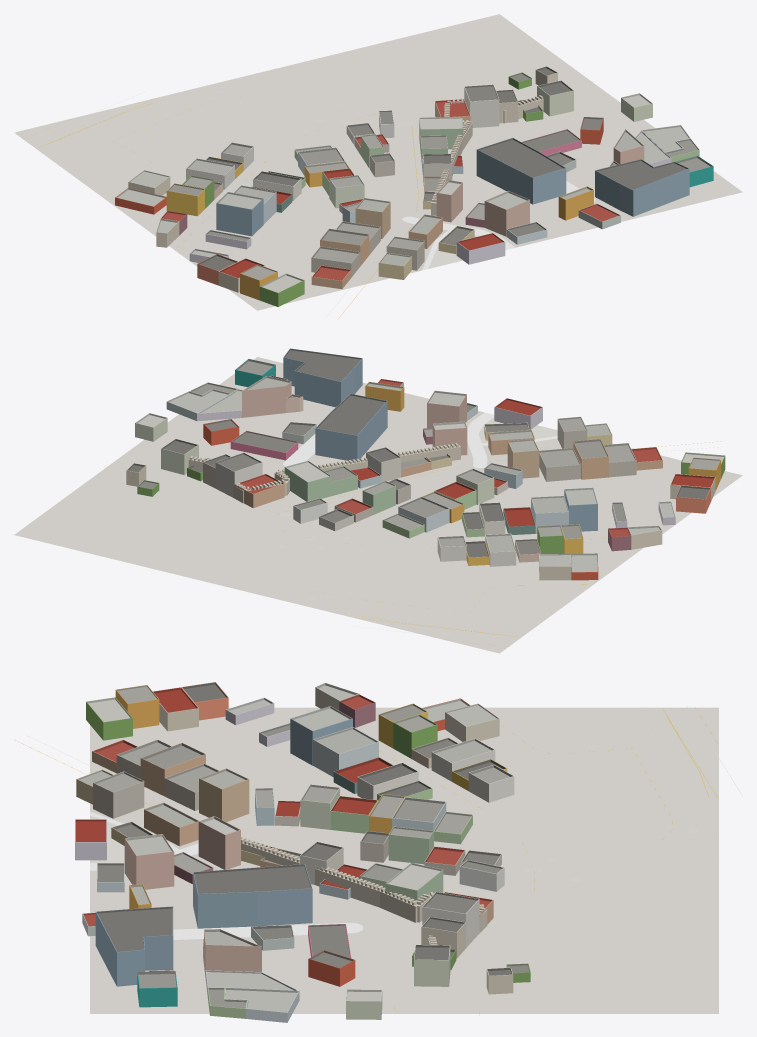
3 views of the same model, one above another, from view 1: azimuth 30°, elevation 25°; view 2: azimuth 150°, elevation 25°; view 3: azimuth 270°, elevation 25° (orthographic). The views are drawn at different scales.
Parts seen in each view (by area): view 1: ground, walls, roofs, stone, markings; view 2: ground, walls, roofs, stone, pavers, markings; view 3: ground, walls, roofs, stone, pavers, markings.
Boxes of the visible parts, box(x1,y1,x2,y2) form: ground: box(14, 14, 742, 310); walls: box(115, 70, 713, 306); roofs: box(115, 66, 713, 292); stone: box(431, 95, 543, 215); markings: box(24, 74, 616, 318); ground: box(14, 357, 742, 653); walls: box(126, 357, 725, 580); roofs: box(126, 348, 725, 572); stone: box(188, 443, 460, 503); pavers: box(283, 412, 494, 468); markings: box(104, 441, 734, 646); ground: box(90, 707, 718, 1013); walls: box(75, 687, 530, 1022); roofs: box(75, 682, 530, 1012); stone: box(241, 836, 487, 944); pavers: box(90, 838, 363, 939); markings: box(14, 706, 742, 1015).
Size of what is drawn, in the model's own units: 263 by 13.38 by 252.
